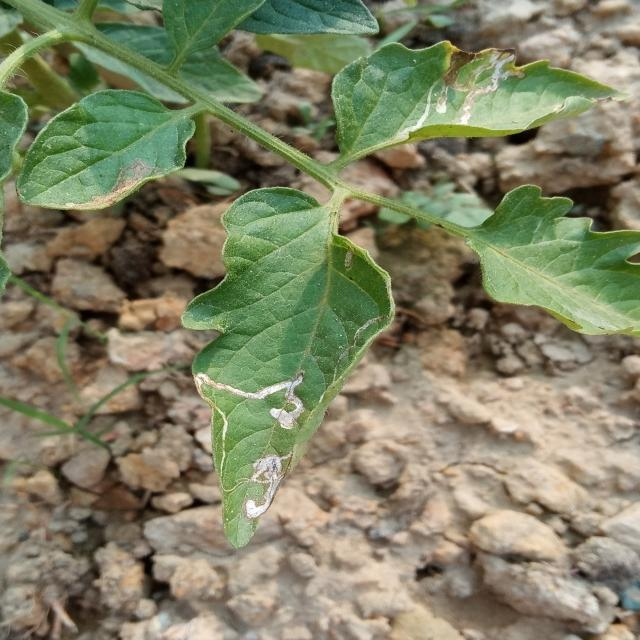Tuta absoluta: (194, 373, 304, 429), (236, 443, 293, 526)
